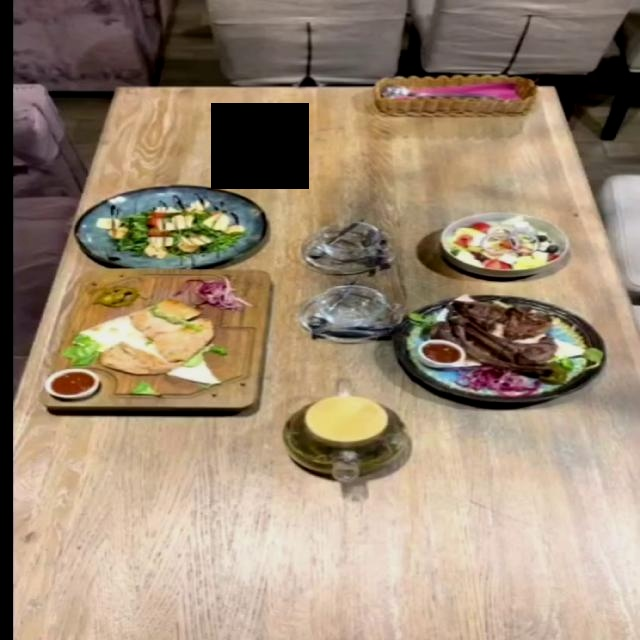meat: (38, 272, 271, 414), (392, 293, 607, 402)
salad: (72, 185, 265, 267), (437, 211, 571, 276)
tea: (282, 395, 411, 480)
